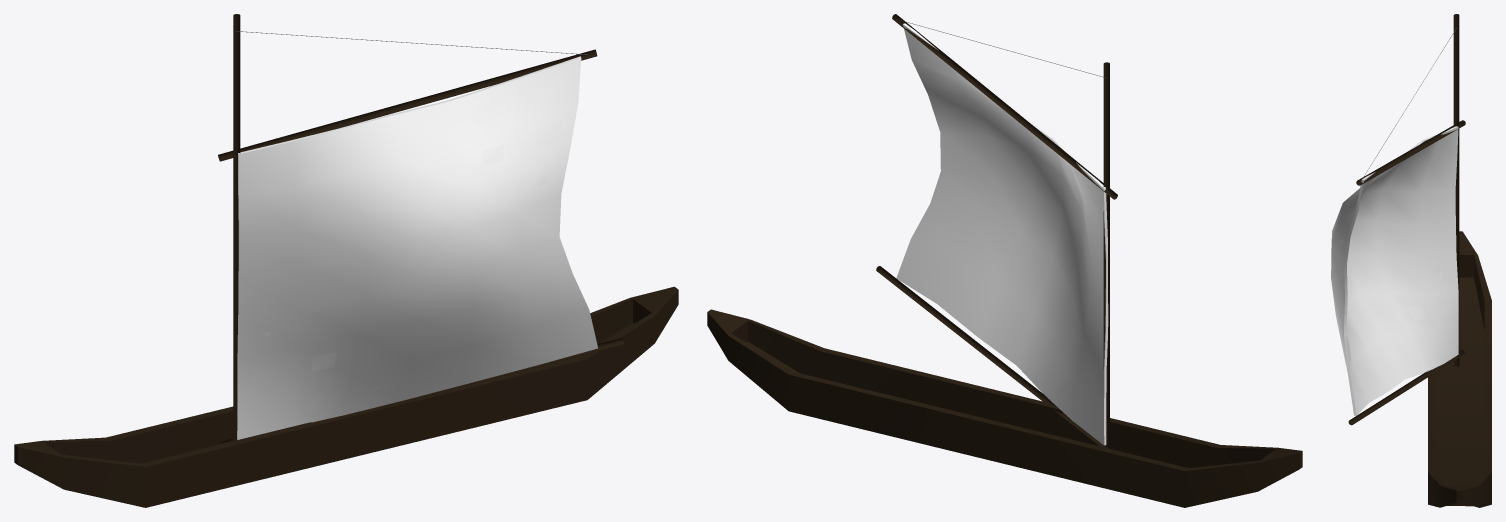
File: pirogue2.gltf
The picture shows the model from 3 angles, left to right: view 1: azimuth 30°, elevation 25°; view 2: azimuth 150°, elevation 25°; view 3: azimuth 270°, elevation 25°; orthographic projection. The views are drawn at different scales.
Visible parts, largest first — view 1: Cube.001; view 2: Cube.001; view 3: Cube.001.
Boxes of the visible parts, x1=… form: Cube.001: x1=14, y1=14, x2=678, y2=507; Cube.001: x1=707, y1=14, x2=1302, y2=507; Cube.001: x1=1331, y1=14, x2=1491, y2=507.
Size of the model in its own units: 8.07 by 5.29 by 2.14.
